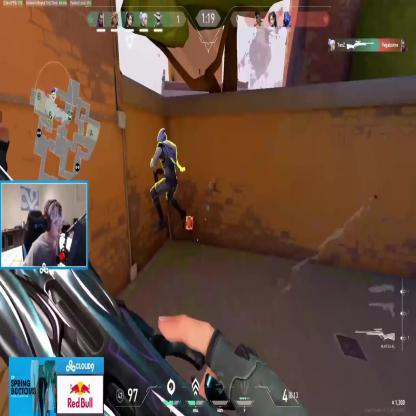enemy: (149, 126, 187, 231)
enemy_head: (156, 128, 167, 146)
